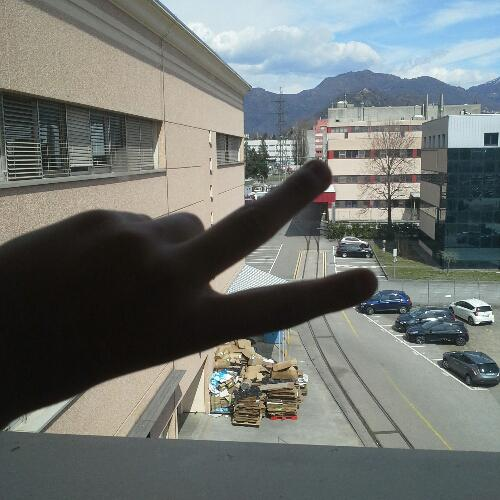scissors: (1, 156, 382, 393)
